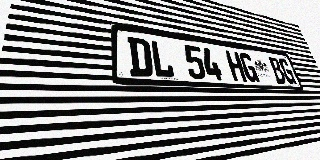4: (200, 47, 223, 81)
5: (183, 44, 207, 80)
B: (267, 57, 287, 84)
D: (127, 36, 154, 77)
G: (238, 52, 260, 82), (277, 58, 297, 84)
H: (225, 50, 247, 82)
L: (150, 40, 175, 78)
